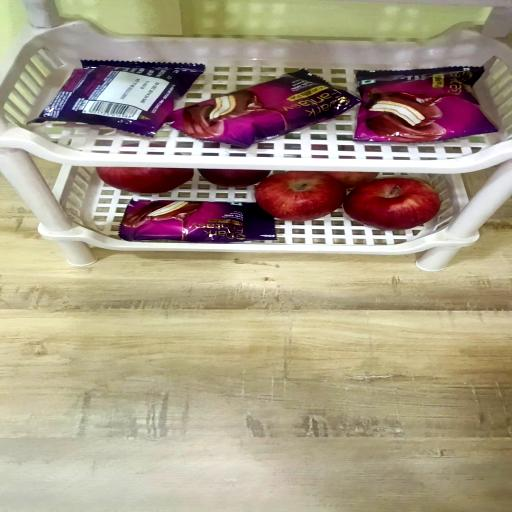Apple: (343, 180, 439, 232), (256, 174, 347, 222), (96, 170, 192, 197), (198, 170, 270, 188), (315, 174, 379, 193)
Choco Pie: (169, 68, 359, 147), (30, 60, 202, 135), (354, 66, 498, 142), (121, 203, 277, 245)
